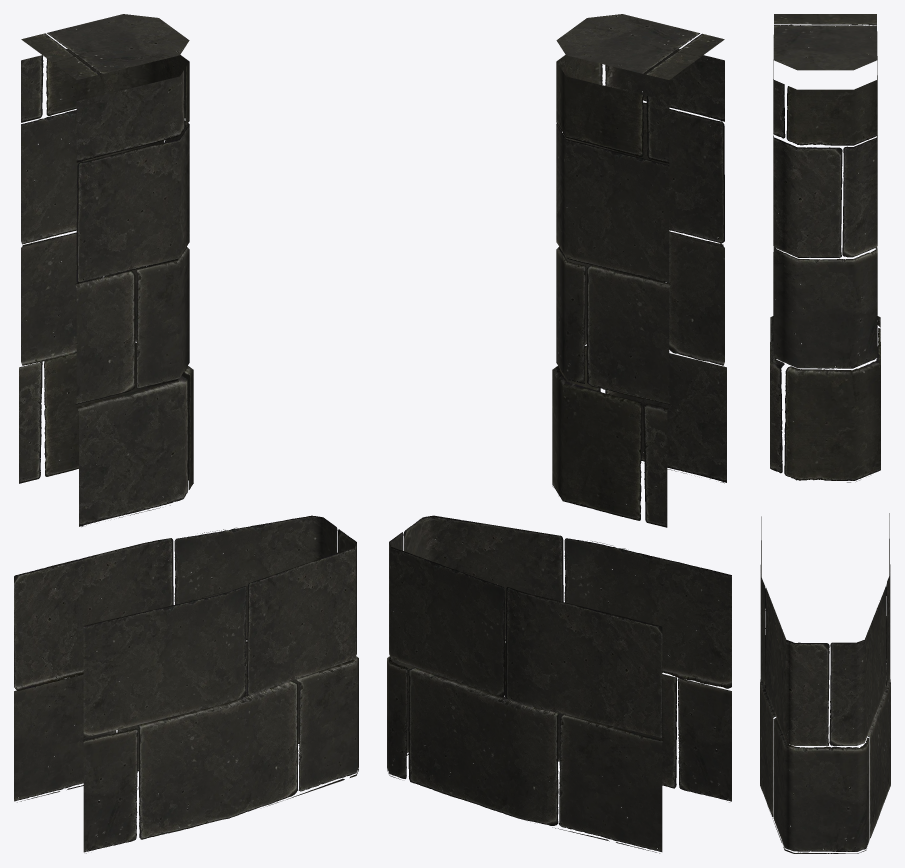
3 views of the same model, side by side, from view 1: azimuth 30°, elevation 25°; view 2: azimuth 150°, elevation 25°; view 3: azimuth 270°, elevation 25° (orthographic). The views are drawn at different scales.
Parts seen in each view (by area): view 1: SM_Dowdun_Buttress_B_02_LOD0; view 2: SM_Dowdun_Buttress_B_02_LOD0; view 3: SM_Dowdun_Buttress_B_02_LOD0.
Part boxes in pixels (bbox=[...]): SM_Dowdun_Buttress_B_02_LOD0: bbox=[14, 14, 358, 853]; SM_Dowdun_Buttress_B_02_LOD0: bbox=[387, 14, 731, 853]; SM_Dowdun_Buttress_B_02_LOD0: bbox=[760, 14, 890, 853].
Size of the model in its own units: 3.35 by 8.41 by 1.41.
